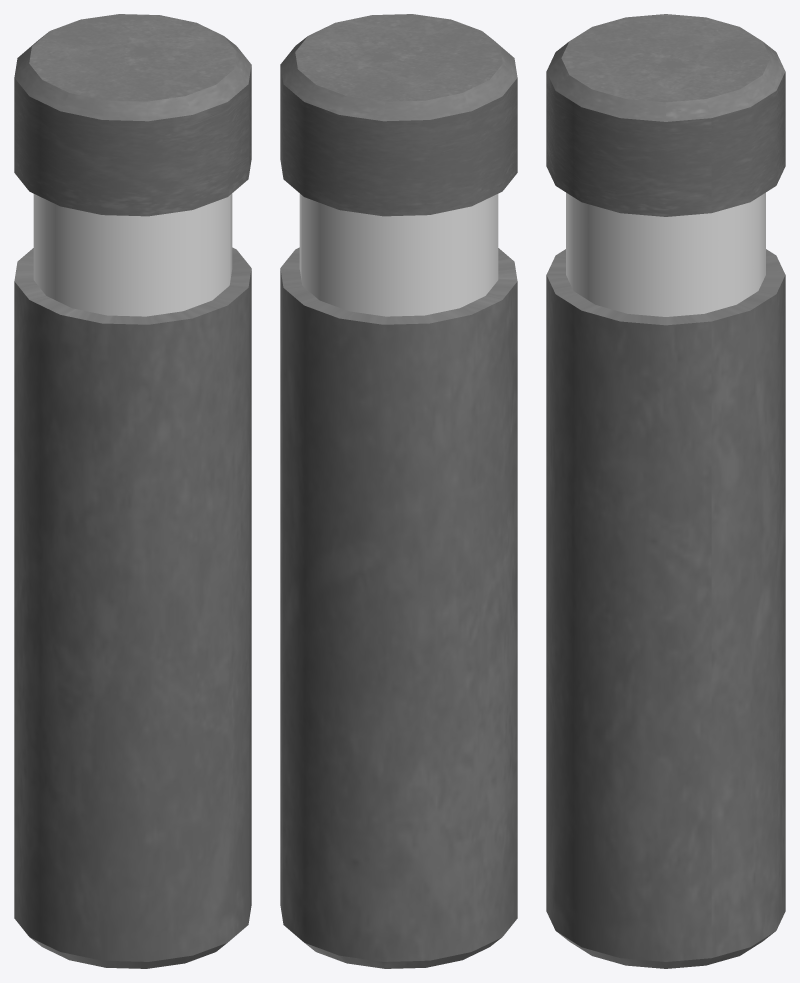
Rendered from data_stick.fbx.
The picture shows the model from 3 angles, left to right: view 1: azimuth 30°, elevation 25°; view 2: azimuth 150°, elevation 25°; view 3: azimuth 270°, elevation 25°; orthographic projection.
Visible parts, largest first — view 1: data_stick; view 2: data_stick; view 3: data_stick.
Boxes of the visible parts, x1,y1,x2,y2 form: data_stick: [14, 14, 251, 968]; data_stick: [280, 14, 517, 968]; data_stick: [546, 14, 785, 968].
Size of the model in its own units: 0.0625 by 0.25 by 0.0625.
2 materials, 1 textured.
